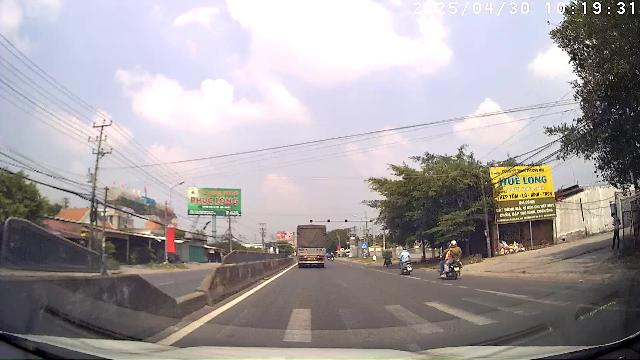423a-duong-nguoi-di-bo-sang-ngang-1: (361, 242, 368, 249)
